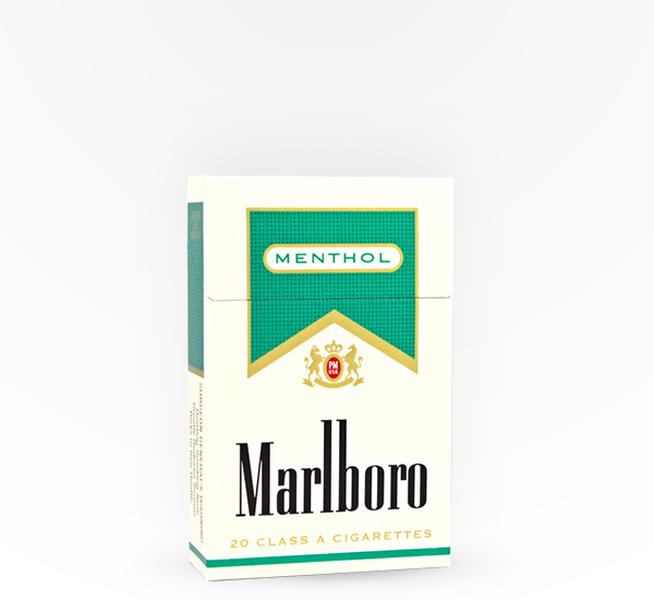marlboro_mentol: (209, 182, 447, 566)
